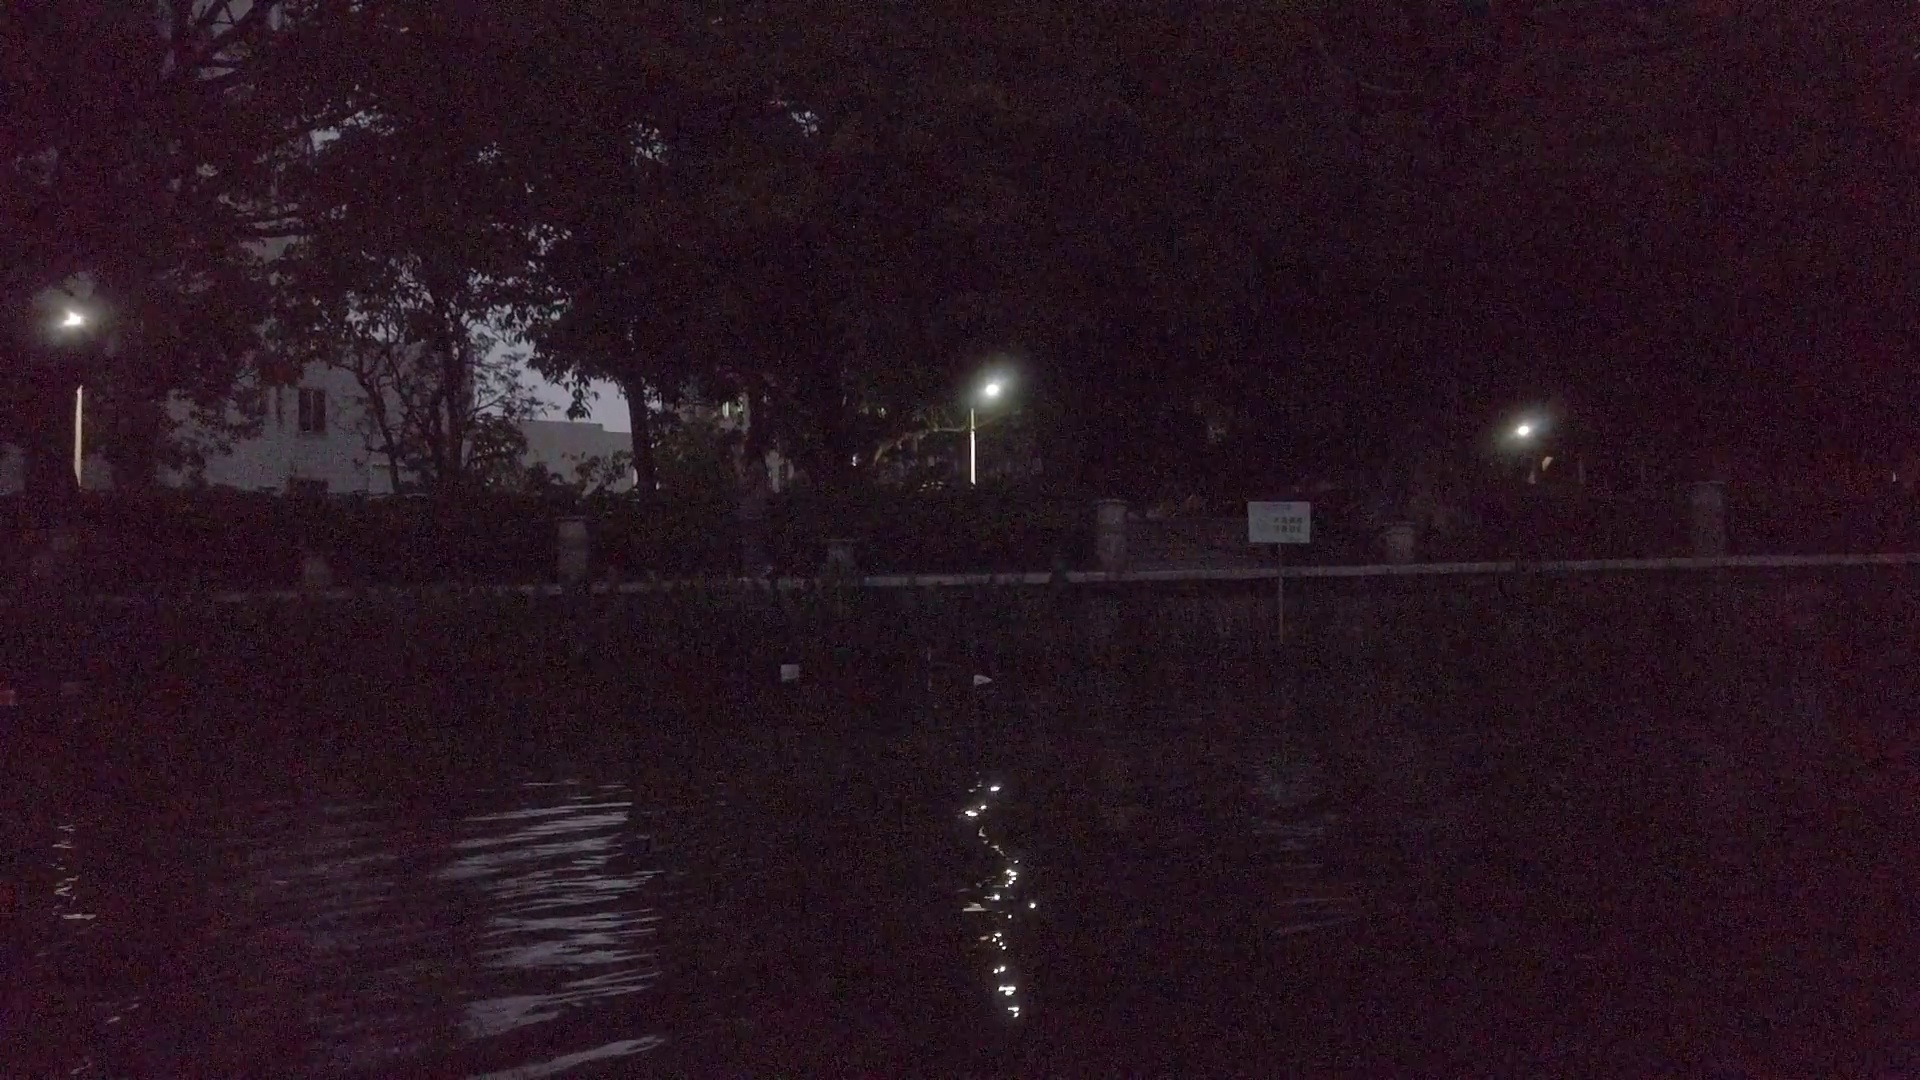bottle: (55, 678, 92, 696), (1, 684, 26, 702)
carton: (971, 671, 996, 688), (779, 665, 800, 679)
